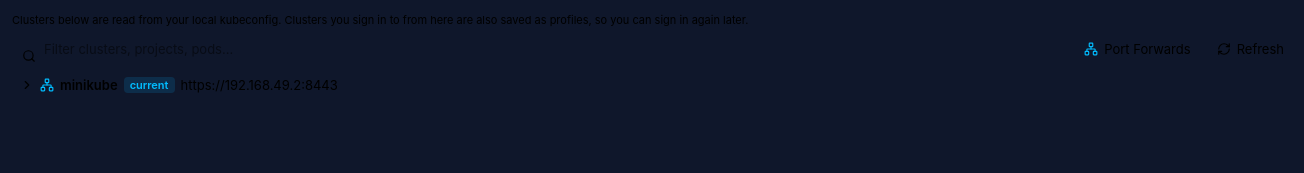
it: K8sConnectionTree › requests namespaces and pods once per expansion, also when React runs state updaters twice (StrictMode)
Click the text "minikube": click(89, 85) [60,76,118,94]
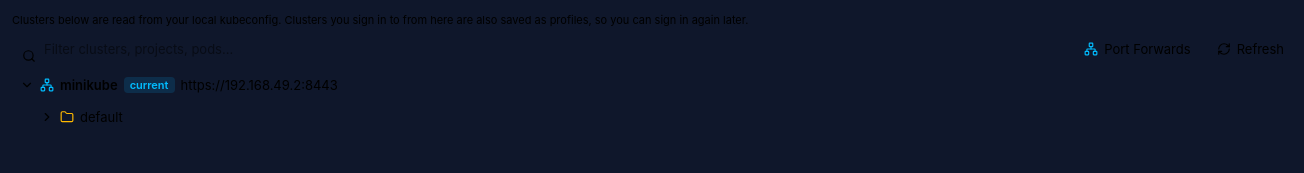
Expected: the text "default" is shown, [80,108,123,126]
Click the button "default": click(101, 117) [32,104,1292,130]
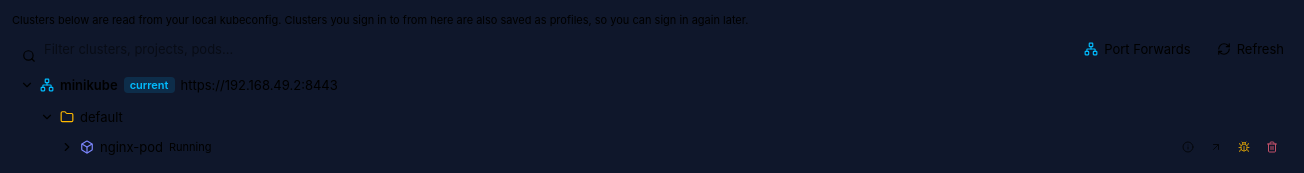
Expected: the text "nginx-pod" is shown, [100,138,163,156]
